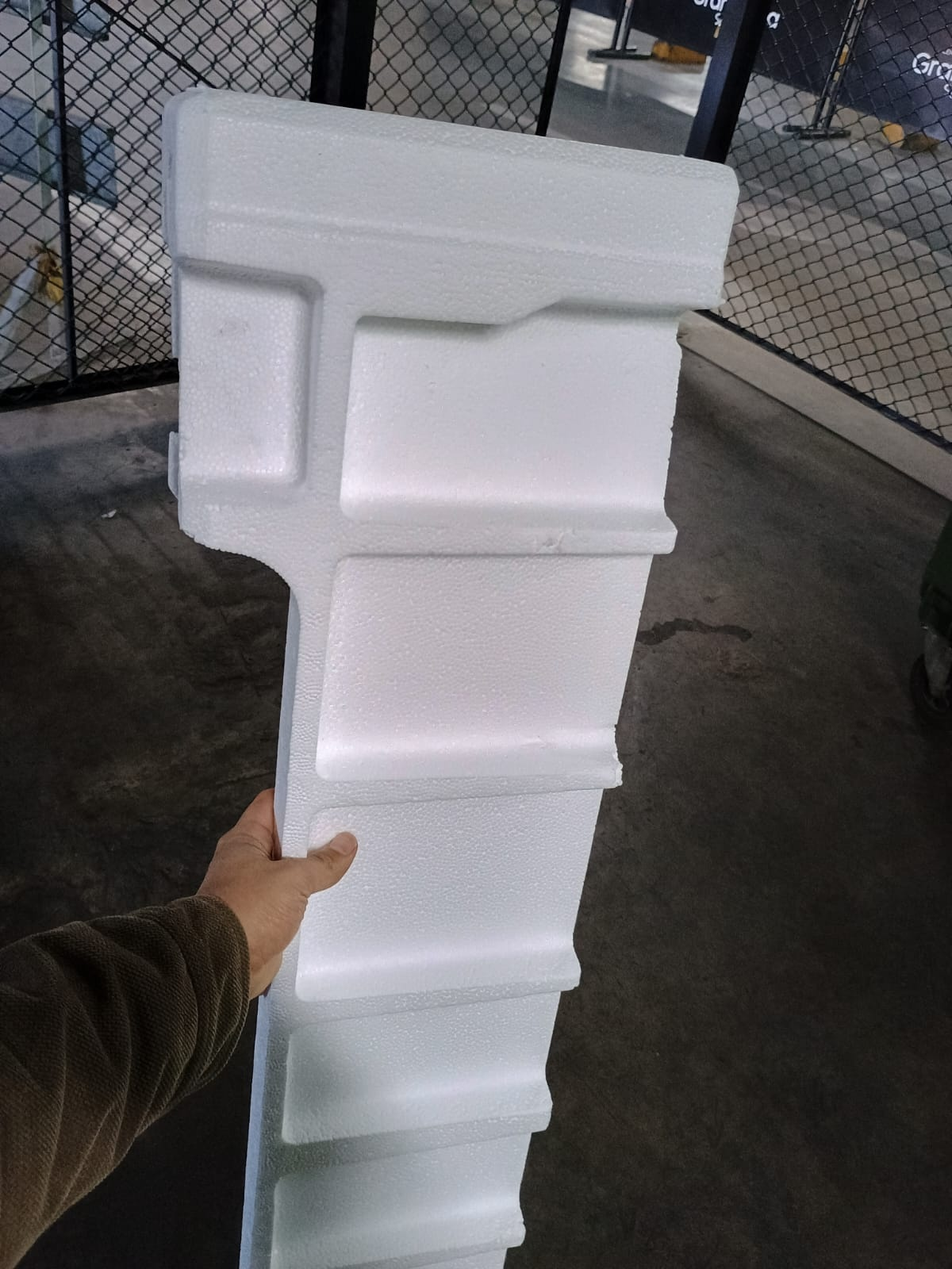Ordinario: (163, 92, 740, 1267)
